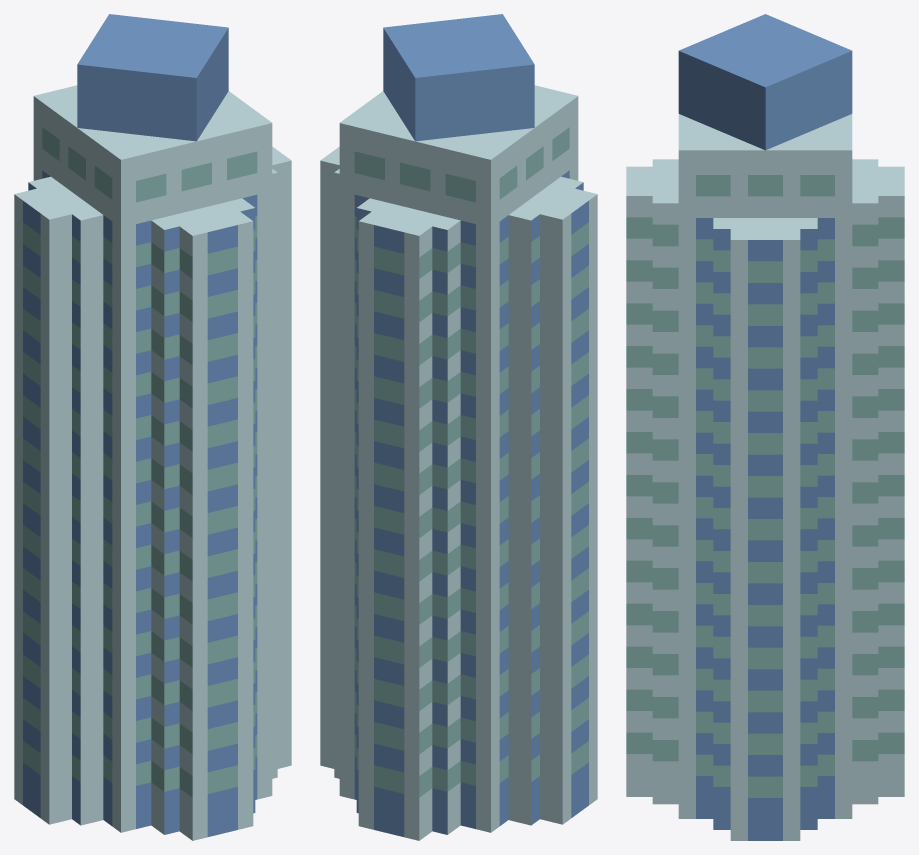
Rendered from MM_house_06_final.fbx.
The picture shows the model from 3 angles, left to right: view 1: azimuth 30°, elevation 25°; view 2: azimuth 150°, elevation 25°; view 3: azimuth 270°, elevation 25°; orthographic projection.
Parts seen in each view (by area): view 1: pCube1; view 2: pCube1; view 3: pCube1.
Boxes of the visible parts, bbox=[...] form: pCube1: bbox=[14, 14, 291, 840]; pCube1: bbox=[320, 14, 597, 840]; pCube1: bbox=[626, 14, 904, 840].
Bounding box in the file's own units: 11.59 × 33.63 × 11.59.
